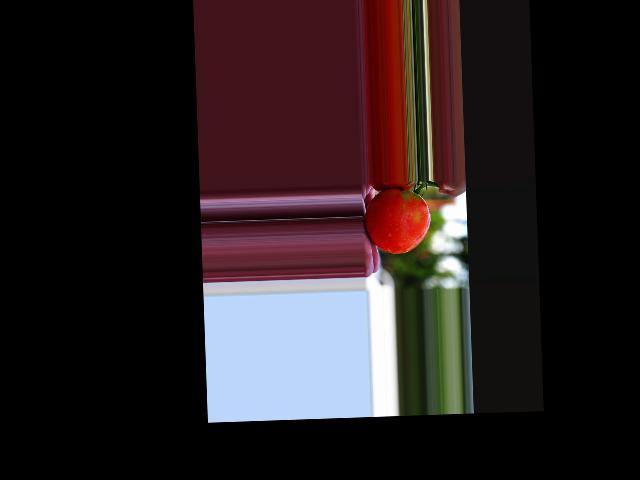tomato: (364, 188, 431, 254)
